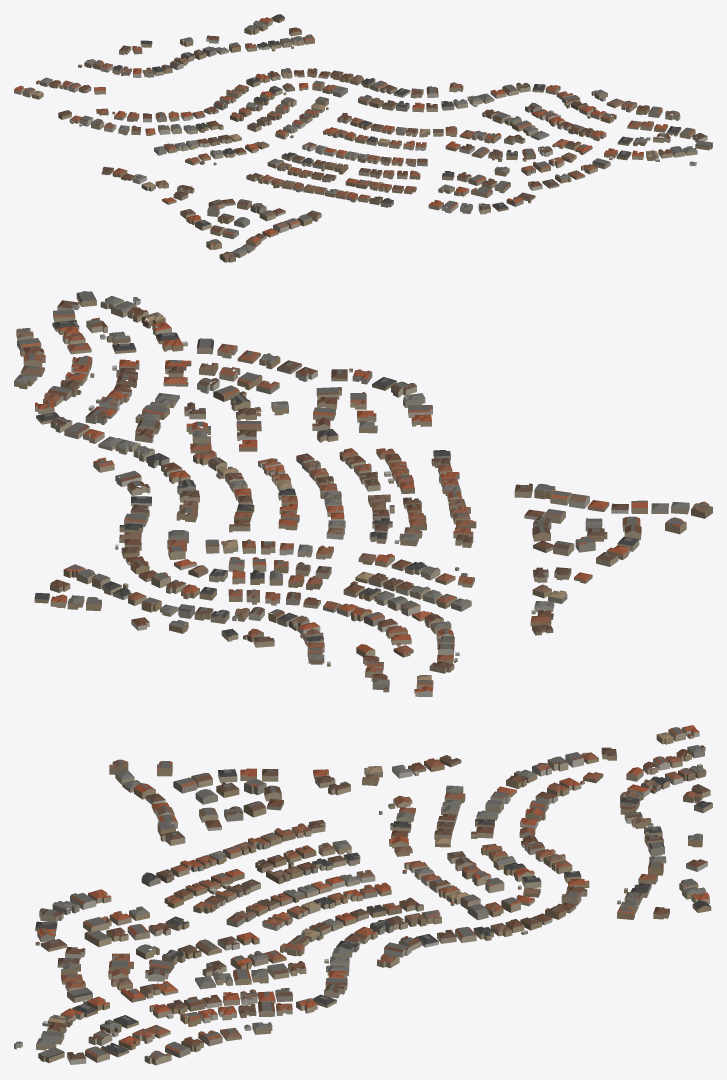
The picture shows the model from 3 angles, top to bottom: view 1: azimuth 30°, elevation 25°; view 2: azimuth 150°, elevation 25°; view 3: azimuth 270°, elevation 25°; orthographic projection. The views are drawn at different scales.
Visible parts, largest first — view 1: buildings_r5_c5_lod1; view 2: buildings_r5_c5_lod1; view 3: buildings_r5_c5_lod1.
Part boxes in pixels (left/top/right/bottom): buildings_r5_c5_lod1: left=14, top=14, right=712, bottom=262; buildings_r5_c5_lod1: left=14, top=291, right=712, bottom=696; buildings_r5_c5_lod1: left=14, top=725, right=712, bottom=1065.
Size of the model in its own units: 876 by 67.59 by 779.
